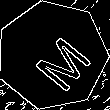M_NW: (18, 22, 87, 89)
